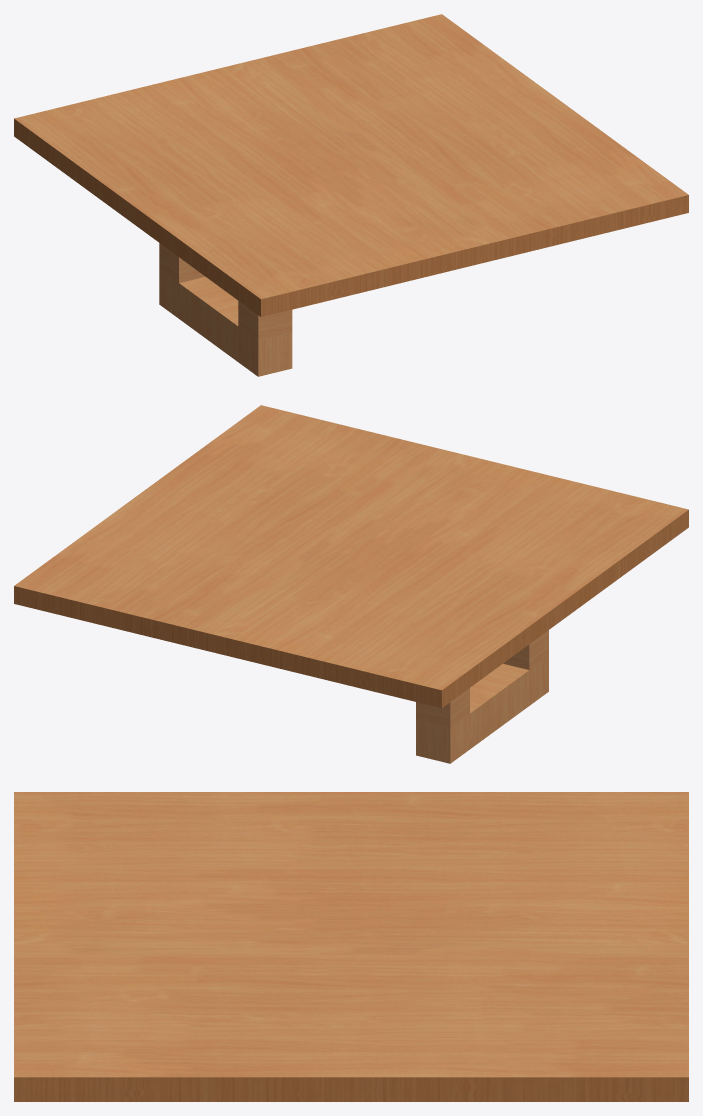
File: conference table1_A.FBX
3 views of the same model, one above another, from view 1: azimuth 30°, elevation 25°; view 2: azimuth 150°, elevation 25°; view 3: azimuth 270°, elevation 25° (orthographic). The views are drawn at different scales.
Visible parts, largest first — view 1: conference table1_A; view 2: conference table1_A; view 3: conference table1_A.
Part boxes in pixels (x1,y1,x2,y2): conference table1_A: (14, 14, 688, 376); conference table1_A: (14, 405, 688, 763); conference table1_A: (14, 792, 688, 1101).
Size of the model in its own units: 25 by 8.18 by 25.
